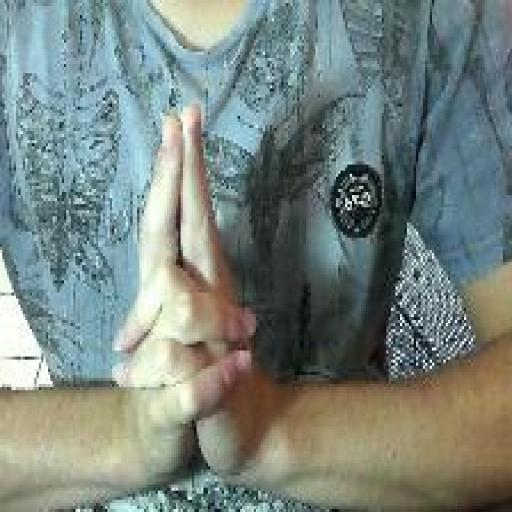Tora -tiger-: (107, 99, 263, 495)
